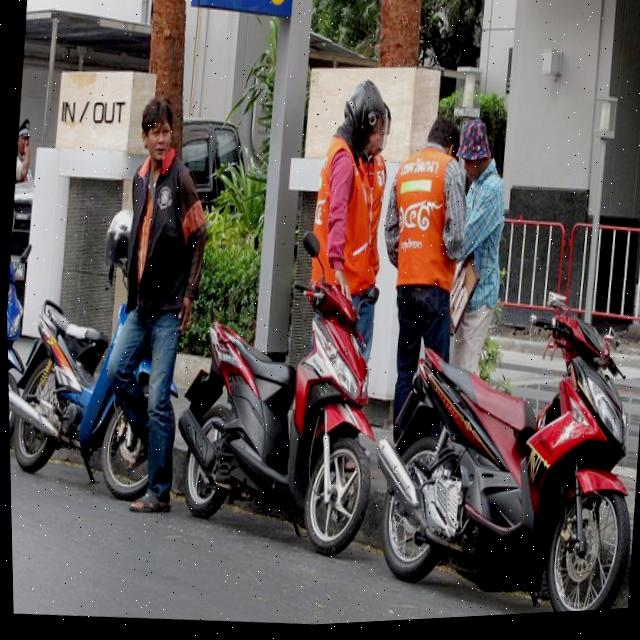motorcycle: (358, 284, 640, 622), (167, 241, 394, 575), (6, 245, 194, 504)
